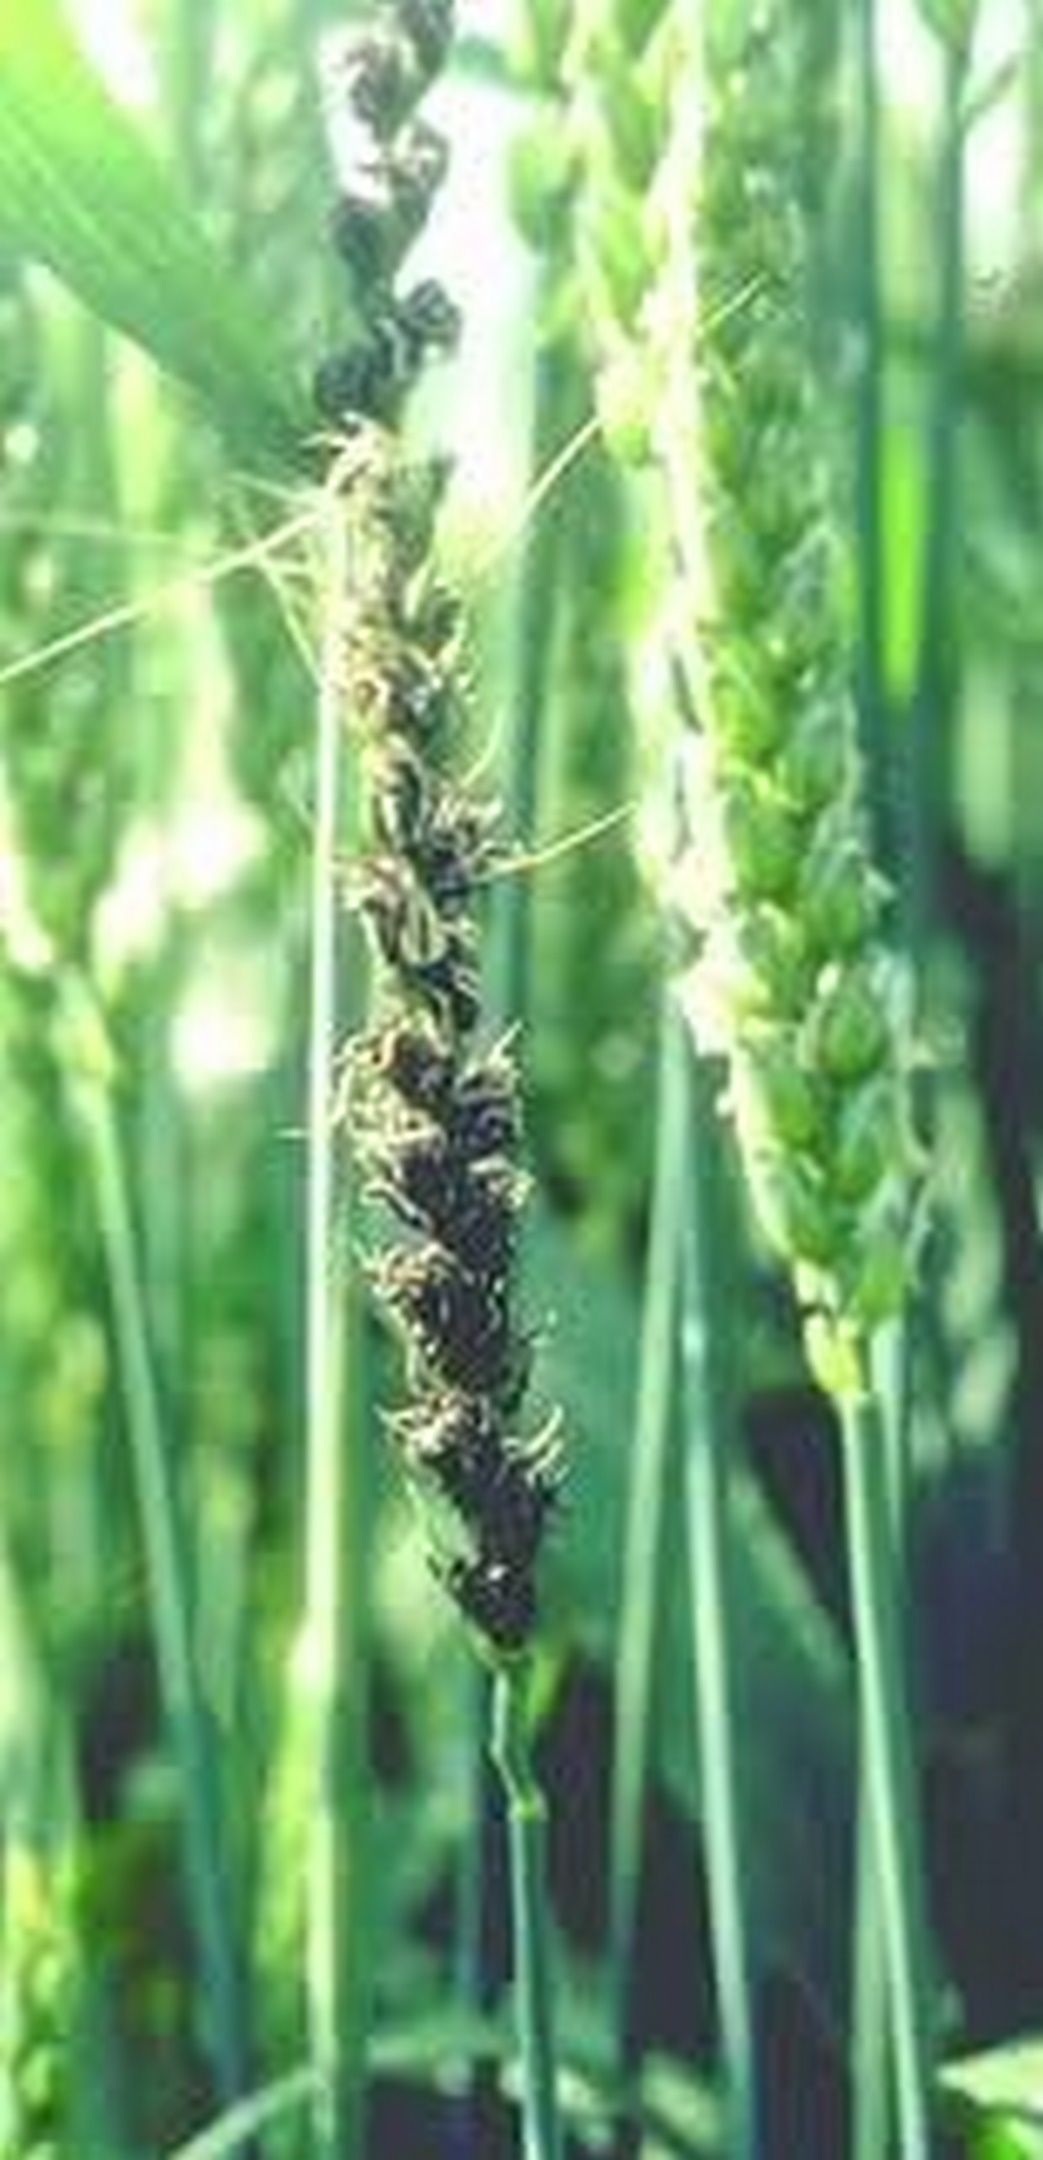Wheat Loose Smut: (271, 388, 631, 1619)
